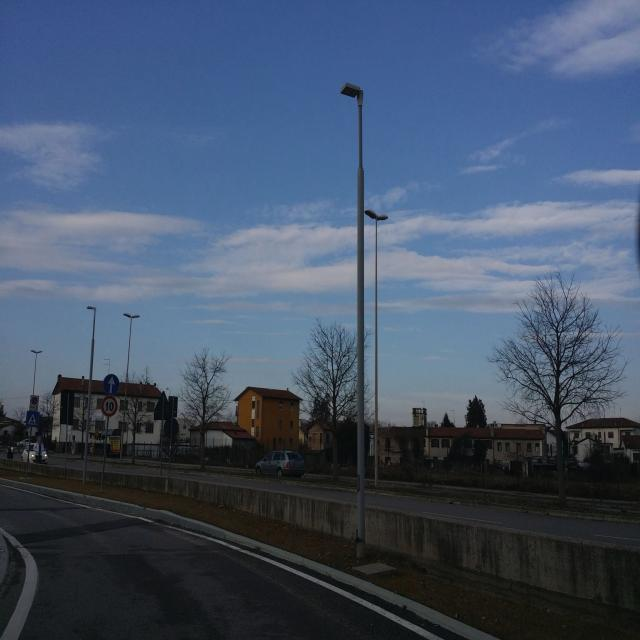car: (253, 449, 305, 478), (22, 440, 48, 464), (530, 456, 558, 476)
